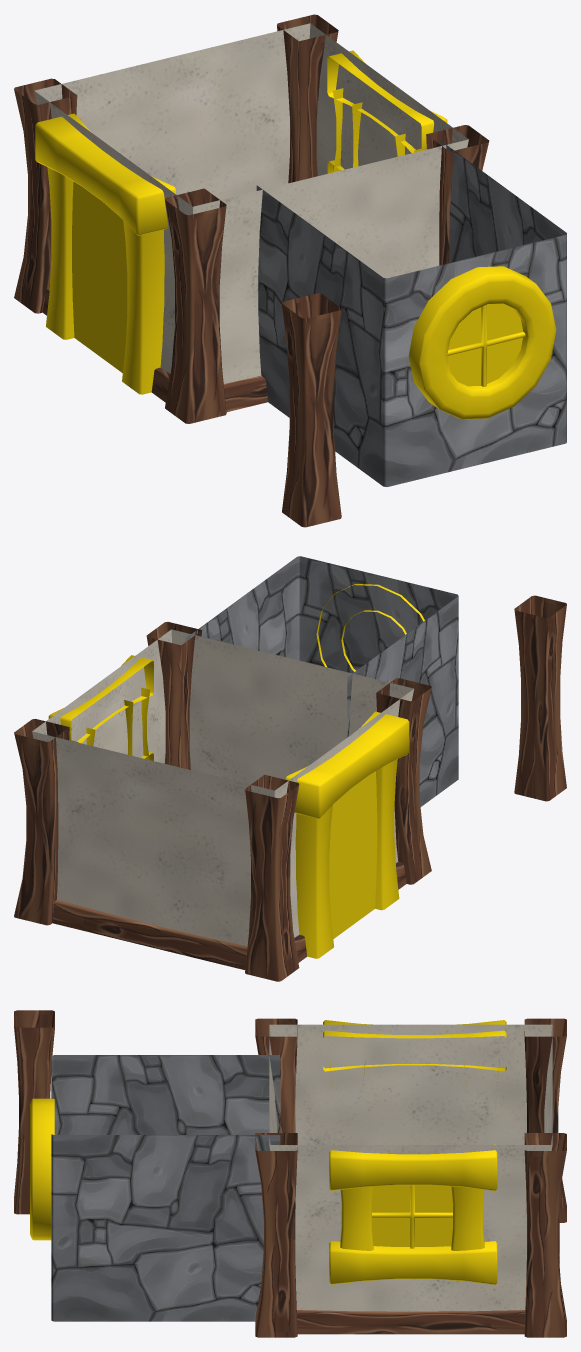
Rendered from house_ground_floor1.FBX.
The picture shows the model from 3 angles, top to bottom: view 1: azimuth 30°, elevation 25°; view 2: azimuth 150°, elevation 25°; view 3: azimuth 270°, elevation 25°; orthographic projection. The views are drawn at different scales.
Visible parts, largest first — view 1: ground_floor001; view 2: ground_floor001; view 3: ground_floor001.
Part boxes in pixels (box(x1,y1,x2,y2)): ground_floor001: box(14, 14, 566, 527); ground_floor001: box(14, 556, 566, 981); ground_floor001: box(14, 1010, 566, 1337).
Bounding box in the file's own units: 323 × 200 × 537.
